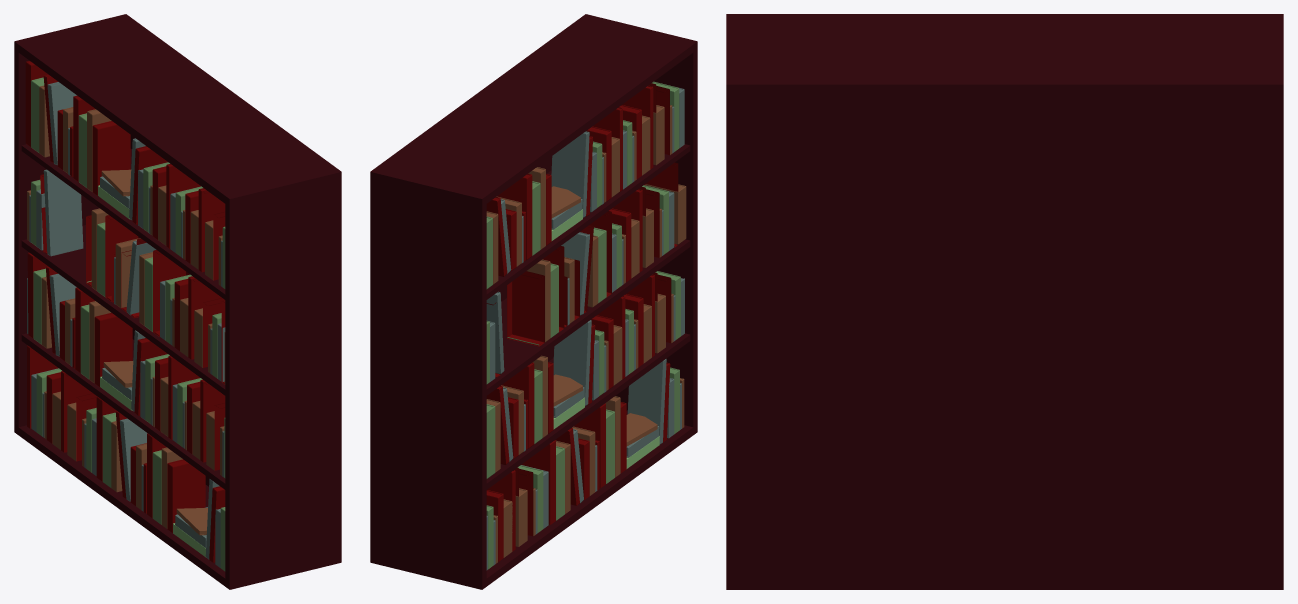
File: Bücherregal1.fbx
3 views of the same model, side by side, from view 1: azimuth 30°, elevation 25°; view 2: azimuth 150°, elevation 25°; view 3: azimuth 270°, elevation 25° (orthographic). The views are drawn at different scales.
Visible parts, largest first — view 1: Cube; view 2: Cube; view 3: Cube.
Part boxes in pixels (bbox=[...]): Cube: bbox=[14, 14, 341, 589]; Cube: bbox=[370, 14, 697, 589]; Cube: bbox=[726, 14, 1283, 589].
Bounding box in the file's own units: 60 × 200 × 200.
